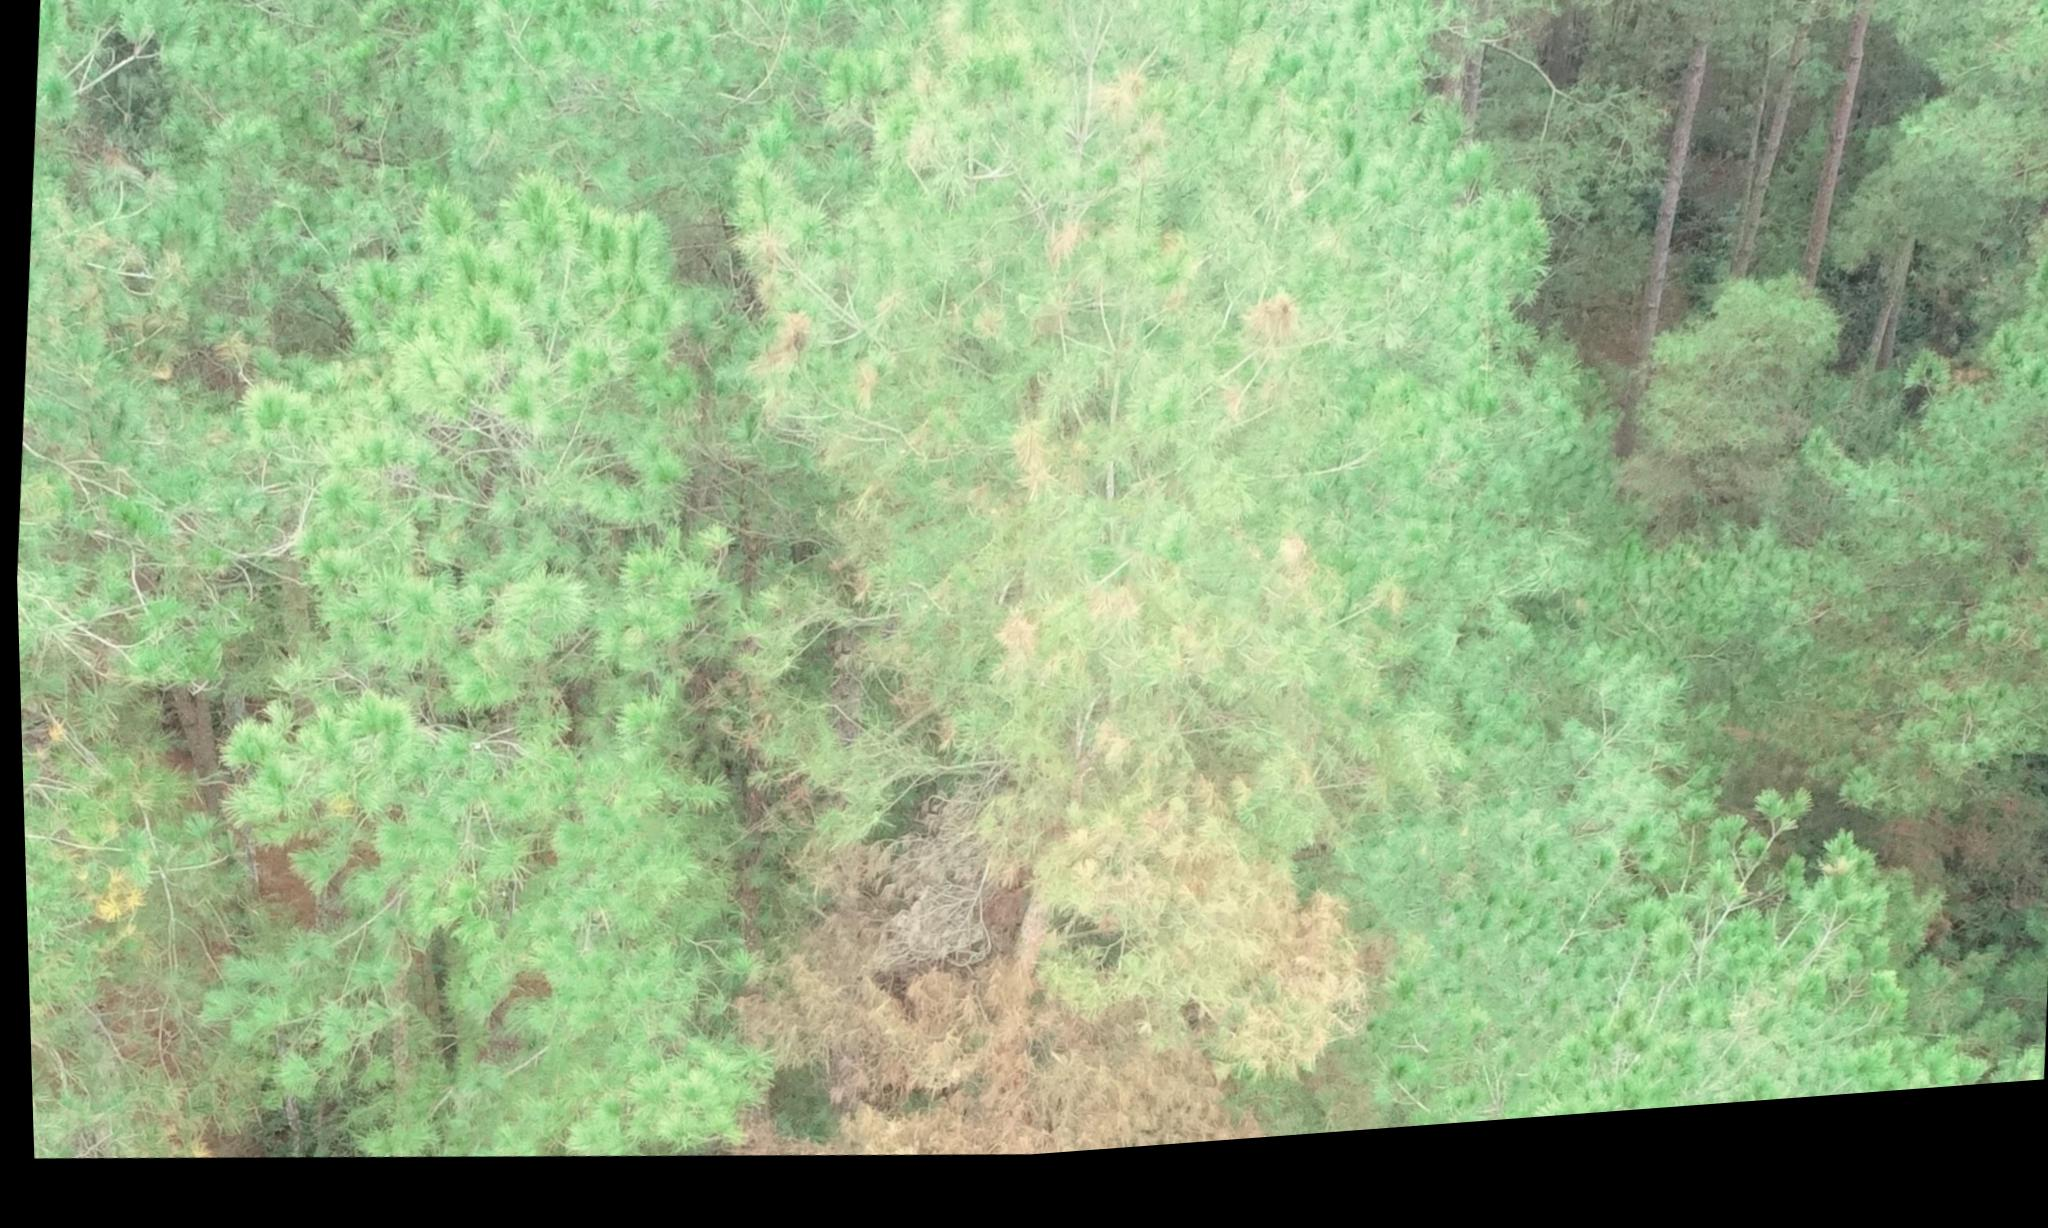heavy: (747, 963, 1304, 1186)
